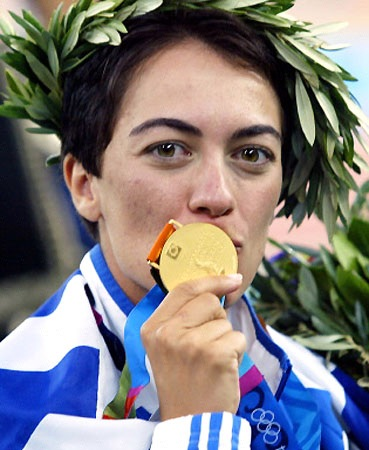face: (108, 51, 280, 312)
